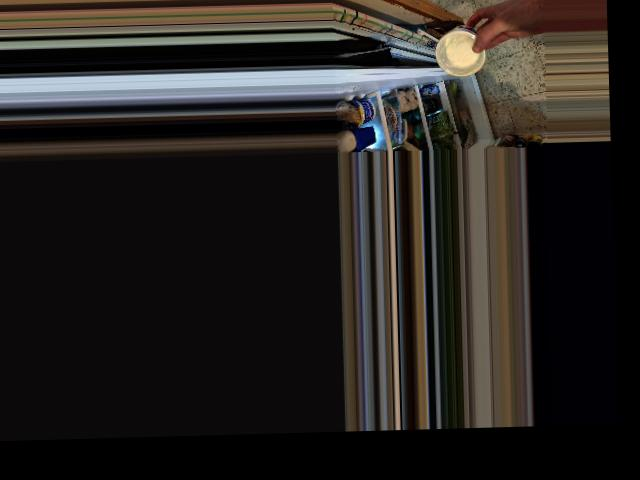cotage: (435, 21, 490, 72)
